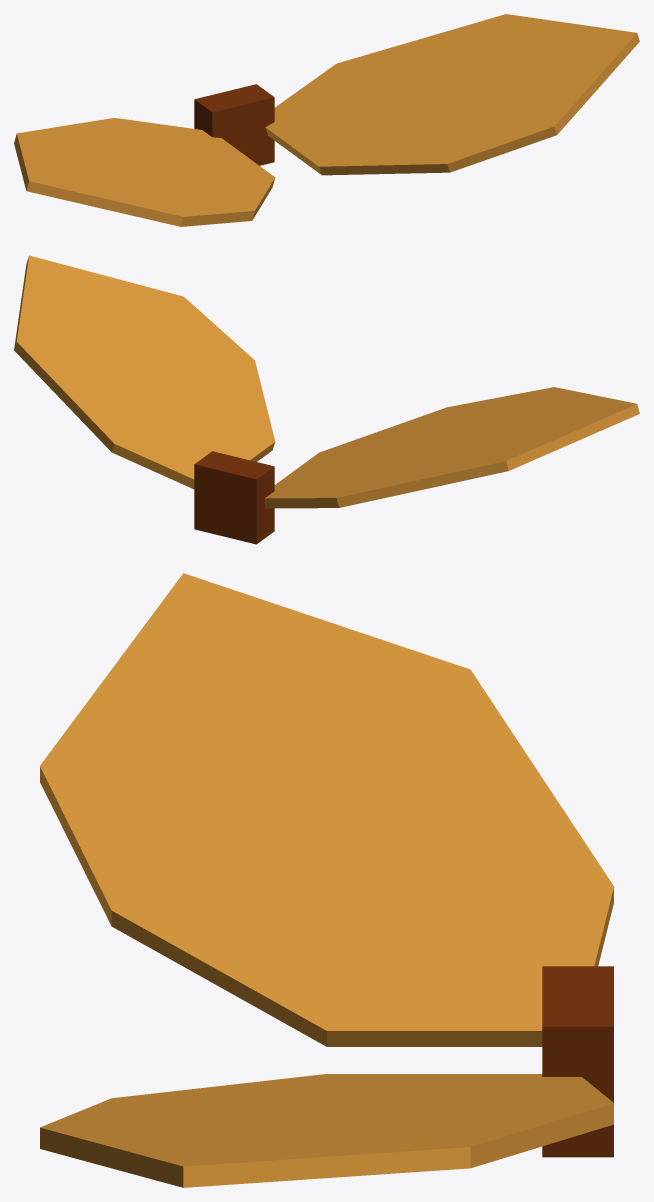
The model's file is solar_wings.glb.
The picture shows the model from 3 angles, top to bottom: view 1: azimuth 30°, elevation 25°; view 2: azimuth 150°, elevation 25°; view 3: azimuth 270°, elevation 25°; orthographic projection. The views are drawn at different scales.
Visible parts, largest first — view 1: solar_wings_v0; view 2: solar_wings_v0; view 3: solar_wings_v0.
Part boxes in pixels (x1=…): solar_wings_v0: x1=14, y1=14, x2=639, y2=226; solar_wings_v0: x1=14, y1=255, x2=639, y2=544; solar_wings_v0: x1=40, y1=573, x2=613, y2=1187.
Size of the model in its own units: 0.7896 by 0.158 by 0.32.
